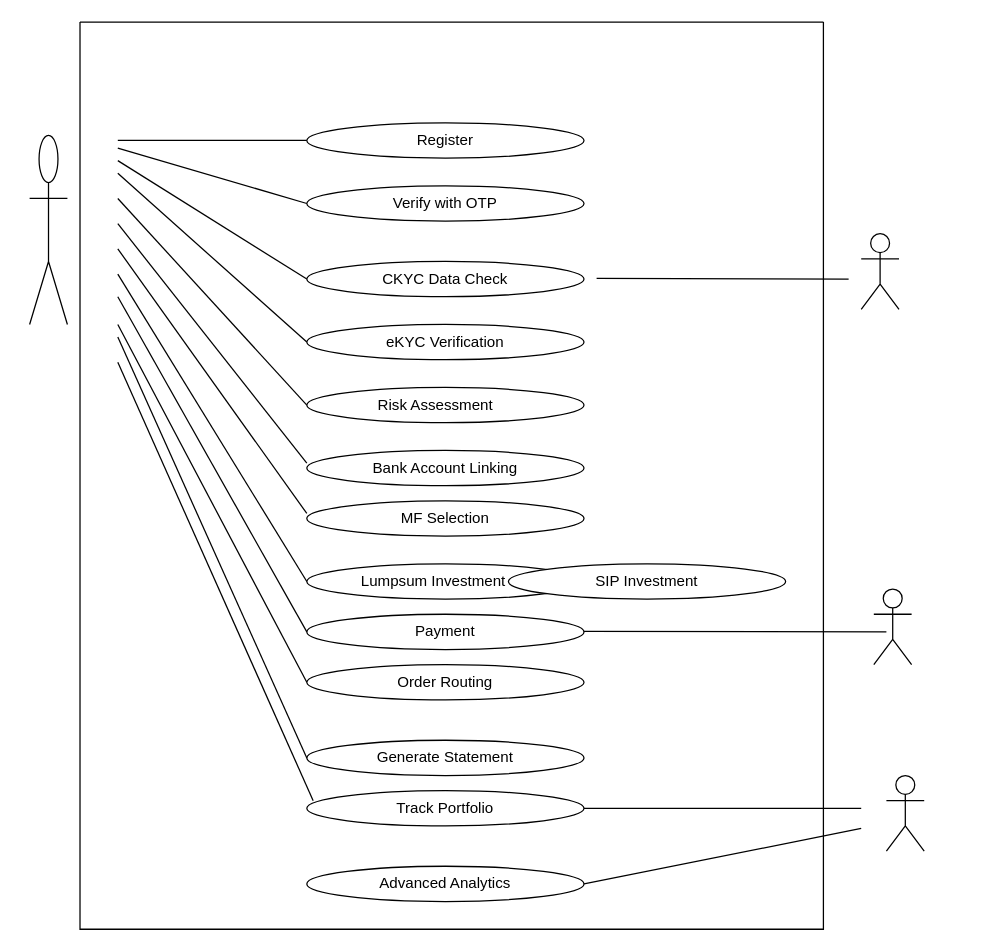
Some shapes in this 985 by 951 pixel diagram are drawn without their labels. The shapes that lost their labels are listed below. From the top down, each one's box as (x1, y1, x2, y2) in pixels, then its label:
(28, 134, 67, 324): Investor
(860, 232, 899, 309): CKYC Registry
(873, 588, 912, 665): Payment Gateway
(885, 774, 924, 851): External Systems BSE/NSE/CAMS
